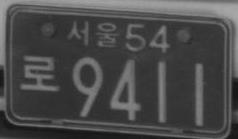1: (183, 61, 214, 127), (147, 58, 177, 125)
4: (109, 57, 142, 122), (148, 23, 172, 53)
5: (124, 22, 148, 53)
9: (70, 55, 104, 118)
로: (19, 53, 60, 93)
서울_O: (66, 19, 119, 49)
